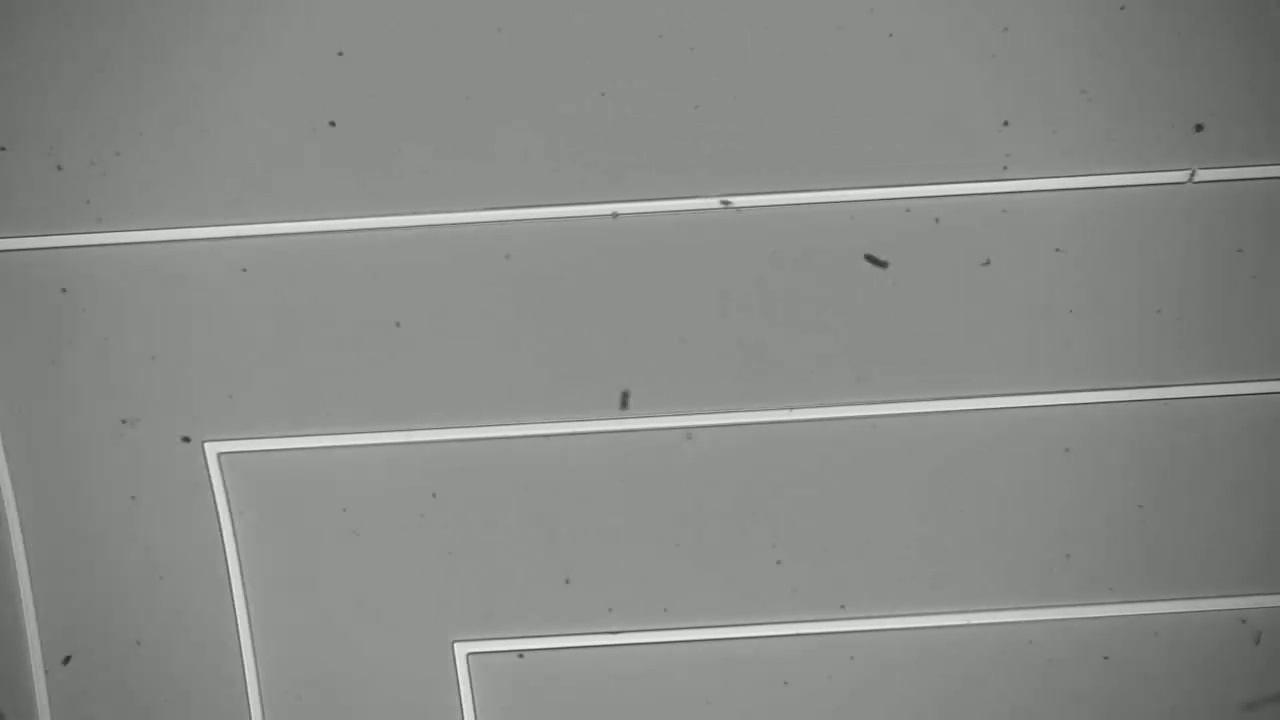stains_enbedded: (707, 187, 746, 215), (1172, 159, 1206, 190)
